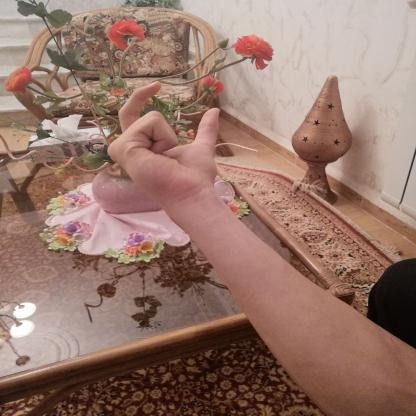NOON: (90, 72, 238, 209)
